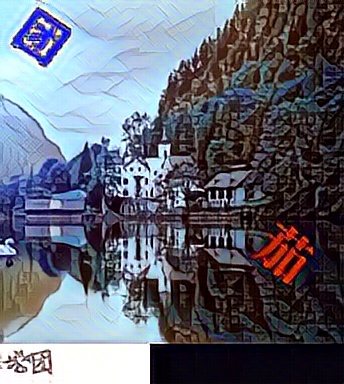C7D1: (253, 217, 316, 283)
CDC5: (10, 4, 73, 70)
